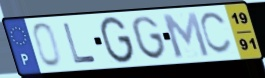0: (30, 20, 65, 70)
C: (198, 10, 234, 57)
G: (99, 15, 137, 66), (130, 15, 169, 62)
L: (61, 22, 98, 65)
M: (159, 11, 212, 60)
